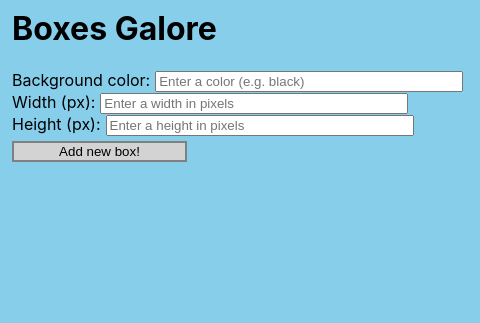
Test: Can add a new box
Note: Fill out form and submit
Type "black" into the field labelled "Background color:".
click(309, 81); type("black")  # box 155,71 -> 463,92
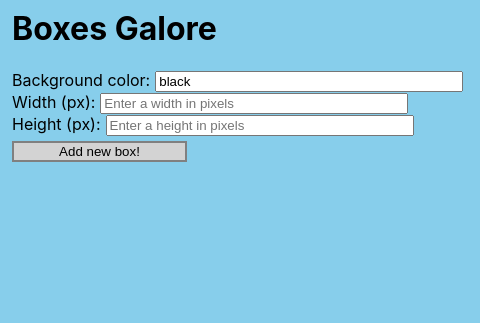
Type "100" into the number field labelled "Width (px):".
click(254, 103); type("100")  # box 100,93 -> 408,114
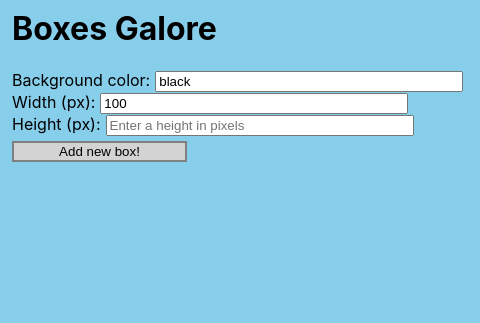
Type "100" into the number field labelled "Height (px):".
click(260, 125); type("100")  # box 106,115 -> 414,136
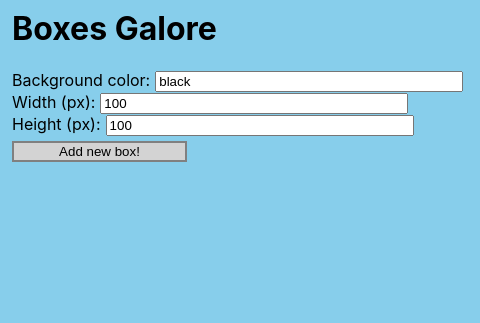
Click the button "Add new box!".
click(100, 151)  # box 12,141 -> 187,162
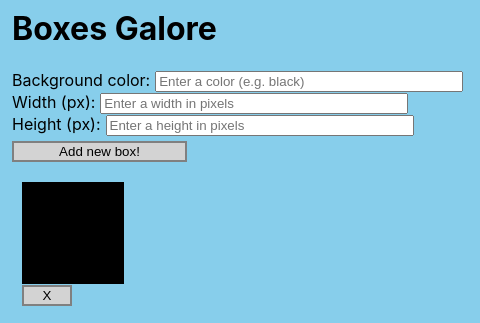
Check: the element with test id "BoxList-list" is not empty, box 22,182 -> 124,306
